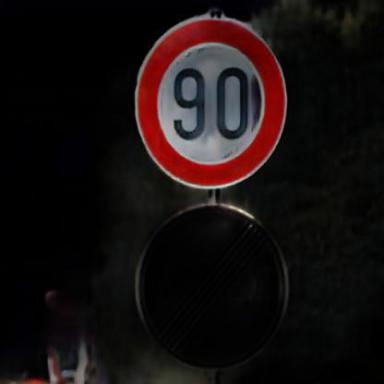Speed_limit_90: (138, 20, 283, 188)
